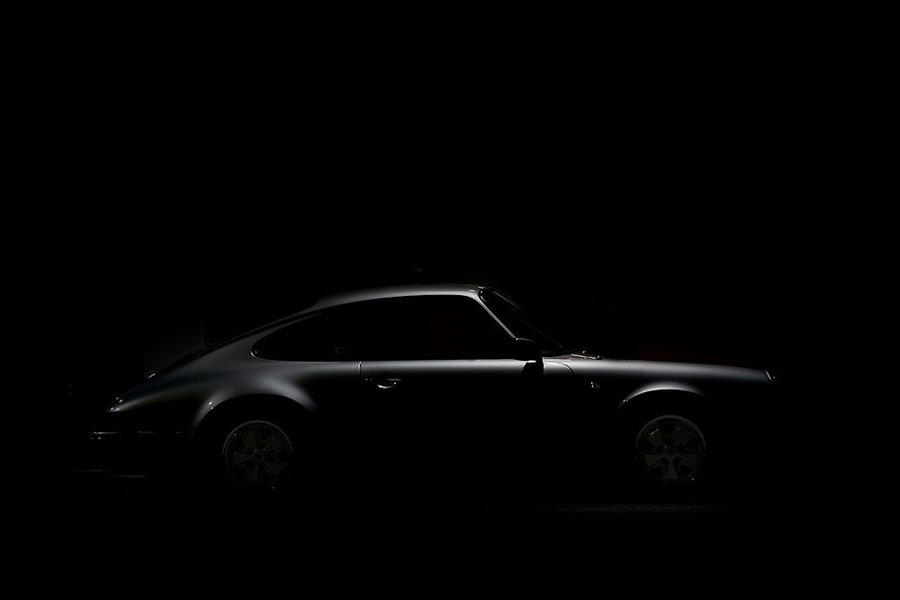car: (77, 273, 807, 522)
